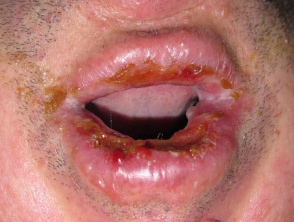SJS-TEN: (28, 30, 271, 222)
